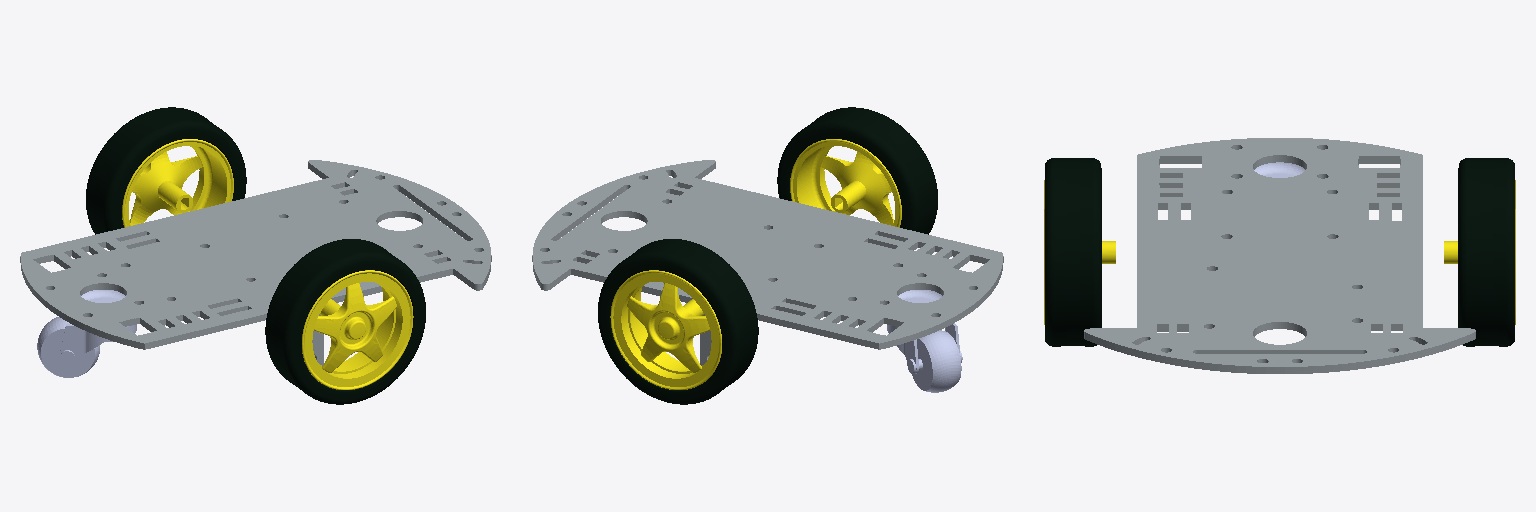
URDF robot description (littlebot):
<?xml version="1.0"?>
<robot name="littlebot">

 <link name="base_link">
    <visual>
      <origin xyz="0 0 0" rpy="1.571 0 1.571" />
      <geometry>
	      <mesh filename="package://littlebot_description/meshes/chassis2.dae" />
      </geometry>
    </visual>
    <collision>
      <geometry>
        <box	size="0.001 0.002 0.001"/>
      </geometry>
    </collision>
    <inertial>
      <origin xyz="0 0 0.15" rpy="0 0 0"/>
      <mass value="0.065"/>
      <inertia ixx="0"  ixy="0"  ixz="0" iyy="0" iyz="0" izz="0" />
    </inertial>
  </link>  


<!--Modelagem da roda esquerda "link" "joint" 
######################################################################################## -->
  <link name="roda_esquerda"> 
    <visual>
      <origin xyz="0 -0.0115 0" rpy="0 0 1.571" />
      <geometry>
	      <mesh filename="package://littlebot_description/meshes/roda.dae" />
      </geometry>
    </visual>
    <collision>
      <origin xyz="0 0 0" rpy="1.571 0 0 " />
      <geometry>
        <cylinder length="0.002614" radius="0.003338" />
      </geometry>
    </collision>
    <inertial>
      <origin xyz="0 0 0" rpy="0 0 0"/>
      <mass value="0.041"/>
      <inertia ixx="0"  ixy="0"  ixz="0" iyy="0" iyz="0" izz="0" />
    </inertial>
  </link>

  <joint name="base_to_roda_esquerda" type="continuous">
    <parent link="base_link"/>
    <child link="roda_esquerda"/>
    <origin xyz="0 0.07393 0" rpy="0 0 0" />
    <axis xyz="0 1 0" />
  </joint>


<!--Modelagem da roda direita "link" "joint"
######################################################################################## -->
  <link name="roda_direita">   
    <visual>
      <origin xyz="0 0.0115 0" rpy="0 0 -1.571" />
      <geometry>
	      <mesh filename="package://littlebot_description/meshes/roda.dae" />
      </geometry>
    </visual>
    <collision>
      <origin xyz="0 0 0" rpy="1.571 0 0 " />
      <geometry>
        <cylinder length="0.02614" radius="0.03338" />
      </geometry>
    </collision>
    <inertial>
      <origin xyz="0 0 0" rpy="0 0 0"/>
      <mass value="0.041"/>
      <inertia ixx="0"  ixy="0"  ixz="0" iyy="0" iyz="0" izz="0" />
    </inertial>
  </link>

  <joint name="base_to_roda_direita" type="continuous">
    <parent link="base_link"/>
    <child link="roda_direita"/>
    <origin xyz="0 -0.07393 0" rpy="0 0 0" />
    <axis xyz="0 1 0" />
  </joint>


<!--Modelagem da rodinha "link" "joint"
######################################################################################## -->
  <link name="rodinha">                                                                                                                                         
    <visual>                                                                    
      <origin xyz="0 0 0" rpy="3.14 0 1.571" />                                                    
      <geometry>                                                                   
	      <mesh filename="package://littlebot_description/meshes/rodinha.dae" />     
      </geometry>                                                                   
    </visual>                                                                   
    <collision>                                                                   
      <geometry>                                                                    
        <box	size="0.001 0.001 0.001"/>                                                                    
      </geometry>                                                                   
    </collision>                                                                    
    <inertial>                                                                    
      <origin xyz="0 0 0" rpy="0 0 0"/>                                                                   
      <mass value="0.020"/>                                                                   
      <inertia ixx="0"  ixy="0"  ixz="0" iyy="0" iyz="0" izz="0" />                                                                   
    </inertial>                                                                   
  </link>                                                                   

  <joint name="base_to_rodinha" type="fixed">
    <parent link="base_link"/>
    <child link="rodinha"/>
    <origin xyz="-0.07 0.0 -0.003" rpy="0 0 0" />
  </joint>

</robot>

--- Render facts (derived) ---
3 views of the same robot in one strip: view 1: azimuth 30°, elevation 25°; view 2: azimuth 150°, elevation 25°; view 3: azimuth 270°, elevation 25° (orthographic).
Robot: littlebot — 4 links, 3 joints (2 continuous, 1 fixed); root link base_link; default pose: all joints at 0.
Links seen in each view (by area): view 1: base_link, roda_direita, roda_esquerda, rodinha; view 2: base_link, roda_esquerda, roda_direita, rodinha; view 3: base_link, roda_direita, roda_esquerda, rodinha.
Boxes of the visible links, left/top/right/bottom form: base_link: left=20, top=160, right=491, bottom=365; roda_direita: left=265, top=239, right=425, bottom=404; roda_esquerda: left=86, top=107, right=246, bottom=234; rodinha: left=37, top=290, right=136, bottom=377; base_link: left=532, top=160, right=1003, bottom=365; roda_esquerda: left=598, top=239, right=758, bottom=404; roda_direita: left=777, top=107, right=937, bottom=234; rodinha: left=887, top=290, right=962, bottom=392; base_link: left=1084, top=138, right=1475, bottom=373; roda_direita: left=1044, top=158, right=1115, bottom=346; roda_esquerda: left=1444, top=158, right=1515, bottom=346; rodinha: left=1254, top=162, right=1304, bottom=177.
Bounding box of the posed robot: 0.1902 × 0.1649 × 0.0701 m (x, y, z).
Meshes: 3 distinct files referenced, 4 mesh visuals loaded (3 Collada DAE).